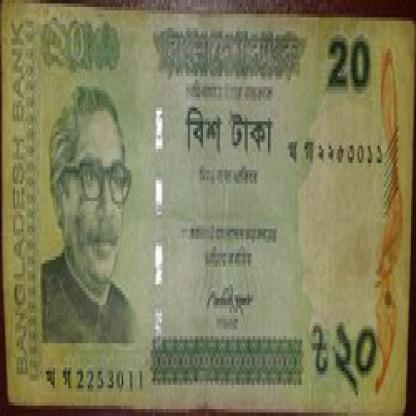Twenty: (183, 93, 278, 170), (40, 7, 133, 83), (308, 312, 383, 399), (328, 24, 376, 101)
